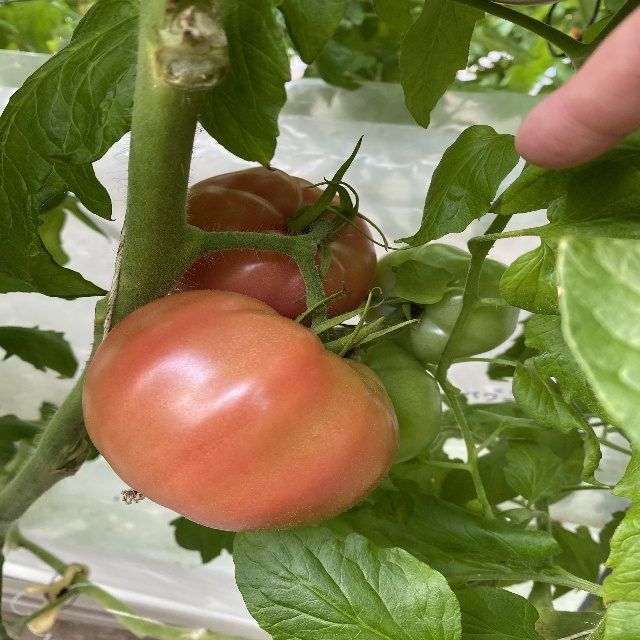b_fully_ripened: (162, 166, 378, 328)
b_green: (361, 242, 523, 366), (327, 336, 443, 468)
b_half_ripened: (81, 289, 399, 533)
